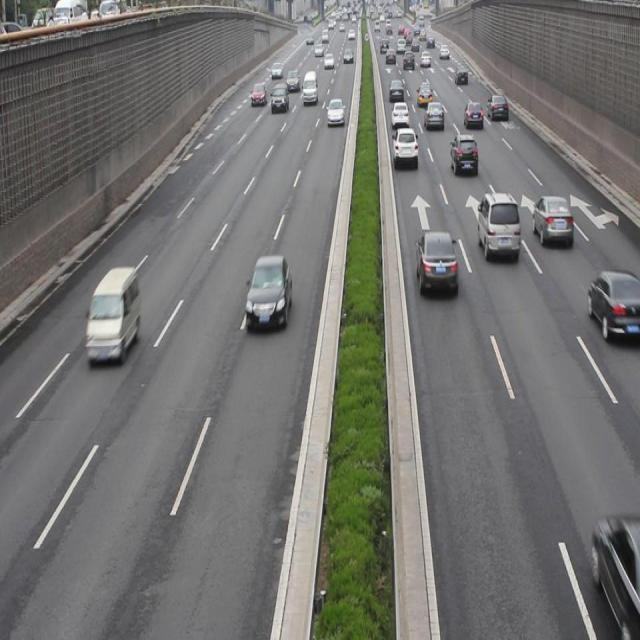car: (589, 514, 640, 640), (586, 269, 640, 342), (246, 253, 291, 329), (476, 190, 519, 260), (414, 228, 456, 297), (531, 194, 572, 247), (449, 132, 478, 178), (392, 126, 418, 167), (423, 98, 444, 130), (462, 99, 483, 131), (390, 100, 409, 129), (488, 94, 508, 121)
truck: (86, 265, 140, 363)
